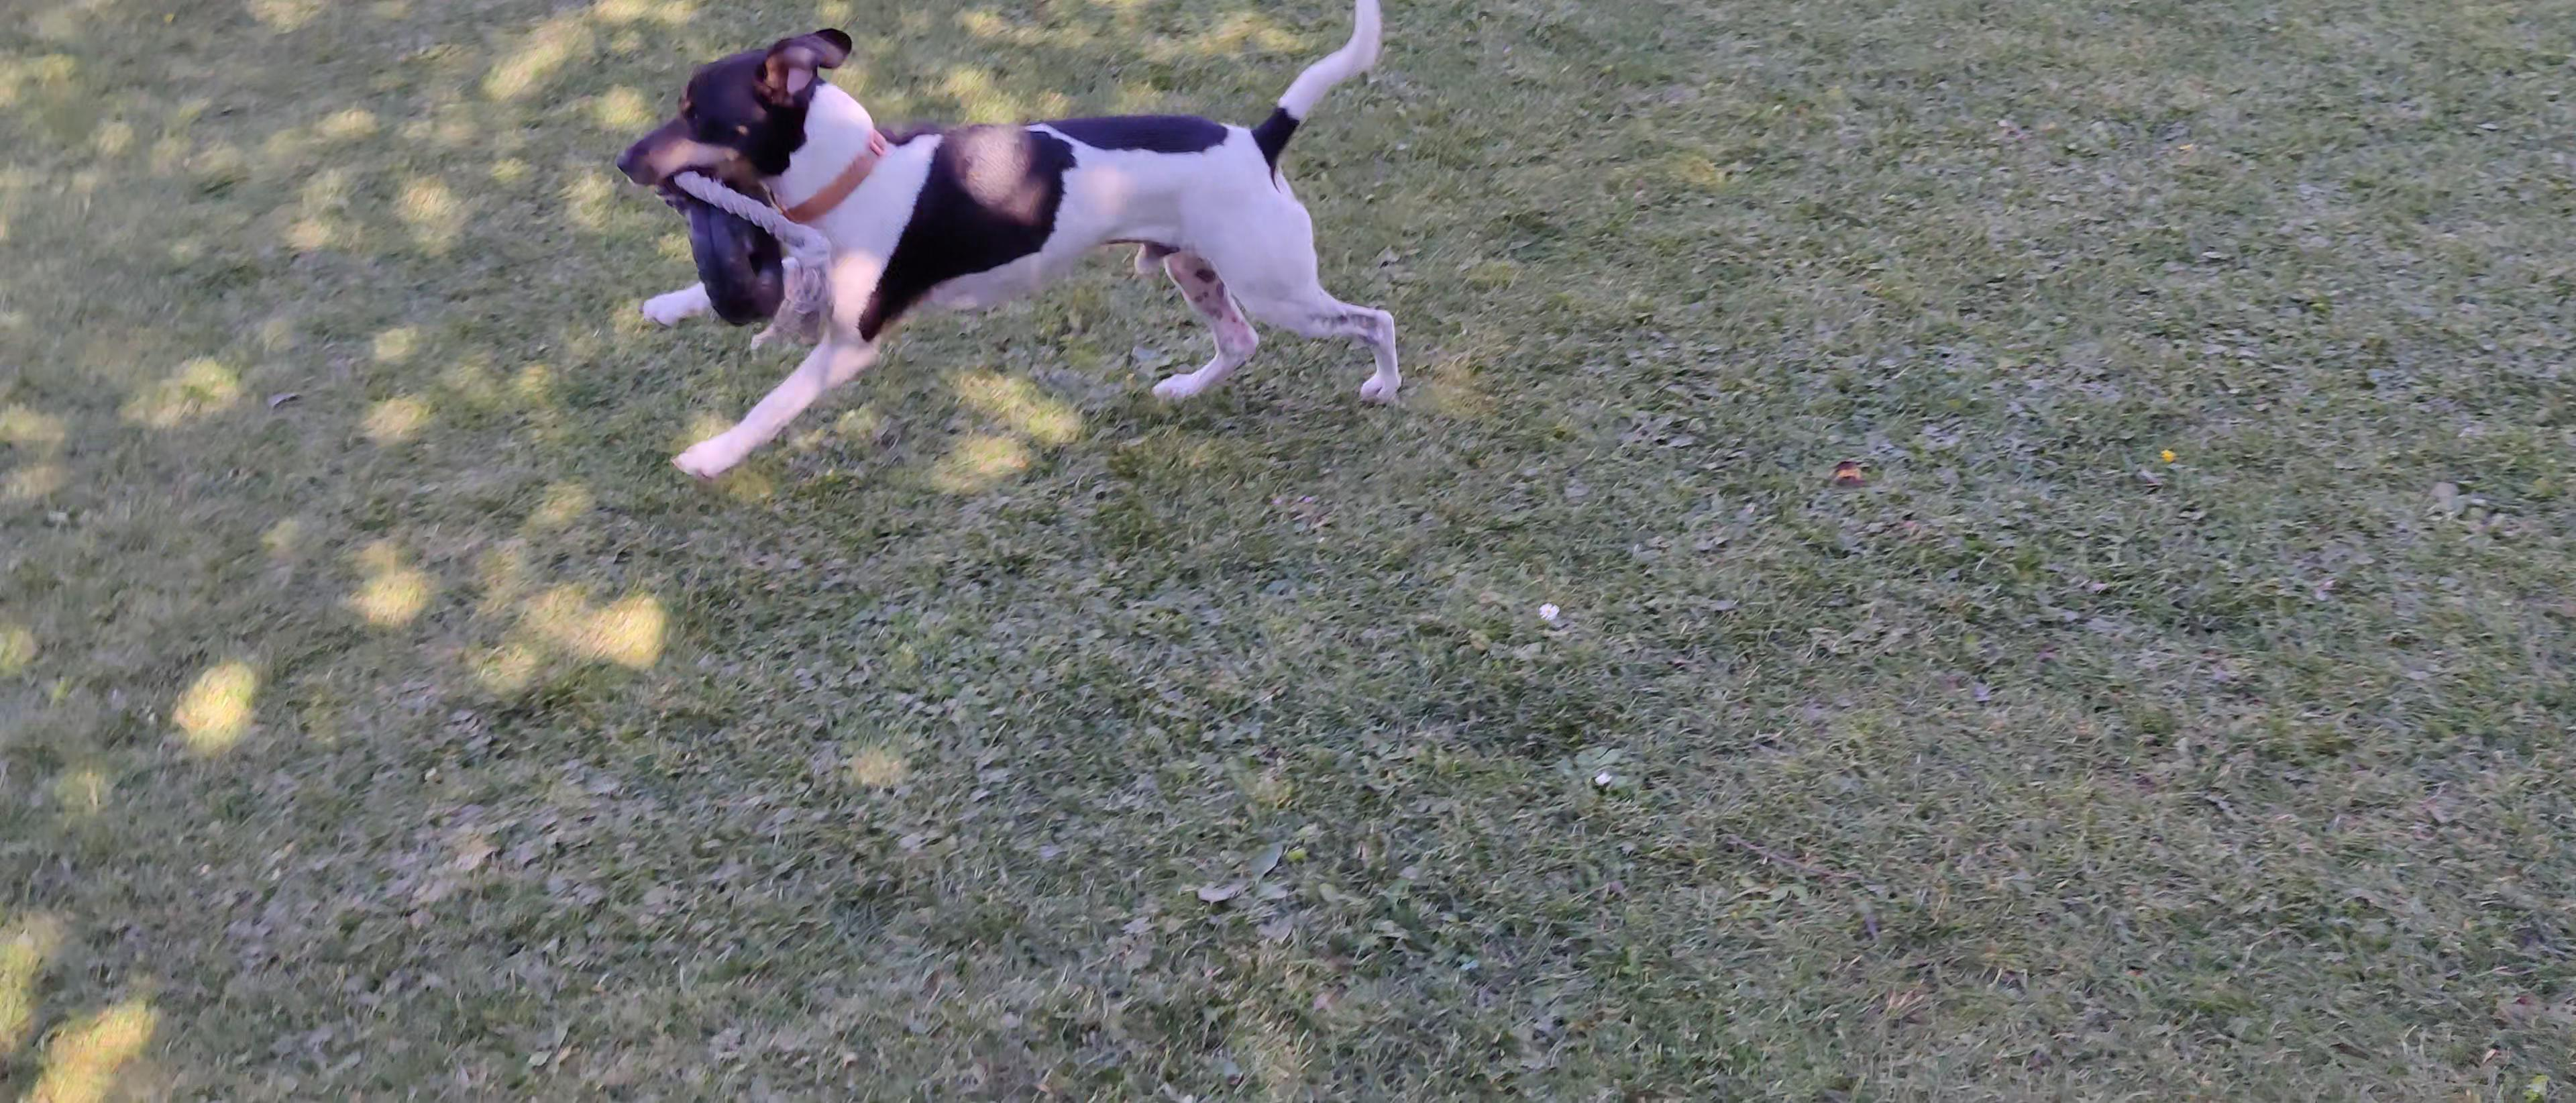Dog: (595, 0, 1460, 501)
